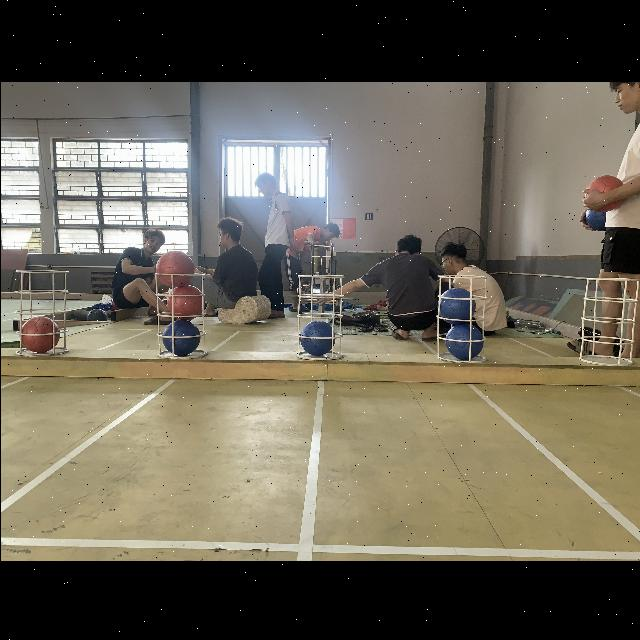B: (160, 318, 200, 356), (438, 286, 474, 324), (444, 322, 482, 358), (301, 319, 335, 355), (584, 204, 608, 232)
R: (19, 315, 59, 353), (156, 248, 194, 286), (584, 174, 624, 210), (167, 284, 203, 318)
